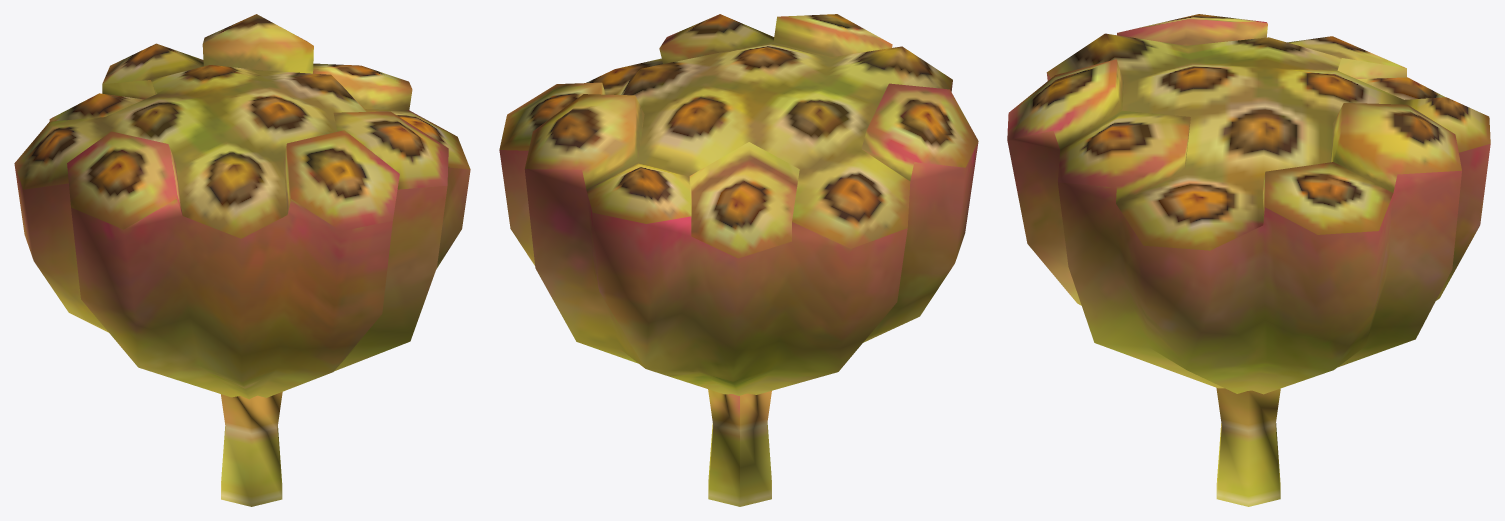
Rendered from Obj_FruitLotusSeeds_A.glb.
The picture shows the model from 3 angles, left to right: view 1: azimuth 30°, elevation 25°; view 2: azimuth 150°, elevation 25°; view 3: azimuth 270°, elevation 25°; orthographic projection. The views are drawn at different scales.
Parts seen in each view (by area): view 1: Obj_FruitLotusSeeds_A; view 2: Obj_FruitLotusSeeds_A; view 3: Obj_FruitLotusSeeds_A.
Boxes of the visible parts, x1,y1,x2,y2 form: Obj_FruitLotusSeeds_A: (14,14,470,506); Obj_FruitLotusSeeds_A: (499,14,978,506); Obj_FruitLotusSeeds_A: (1007,14,1490,506).
Bounding box in the file's own units: 0.4486 × 0.4469 × 0.464.
Materials: 1 (1 with a texture image).
